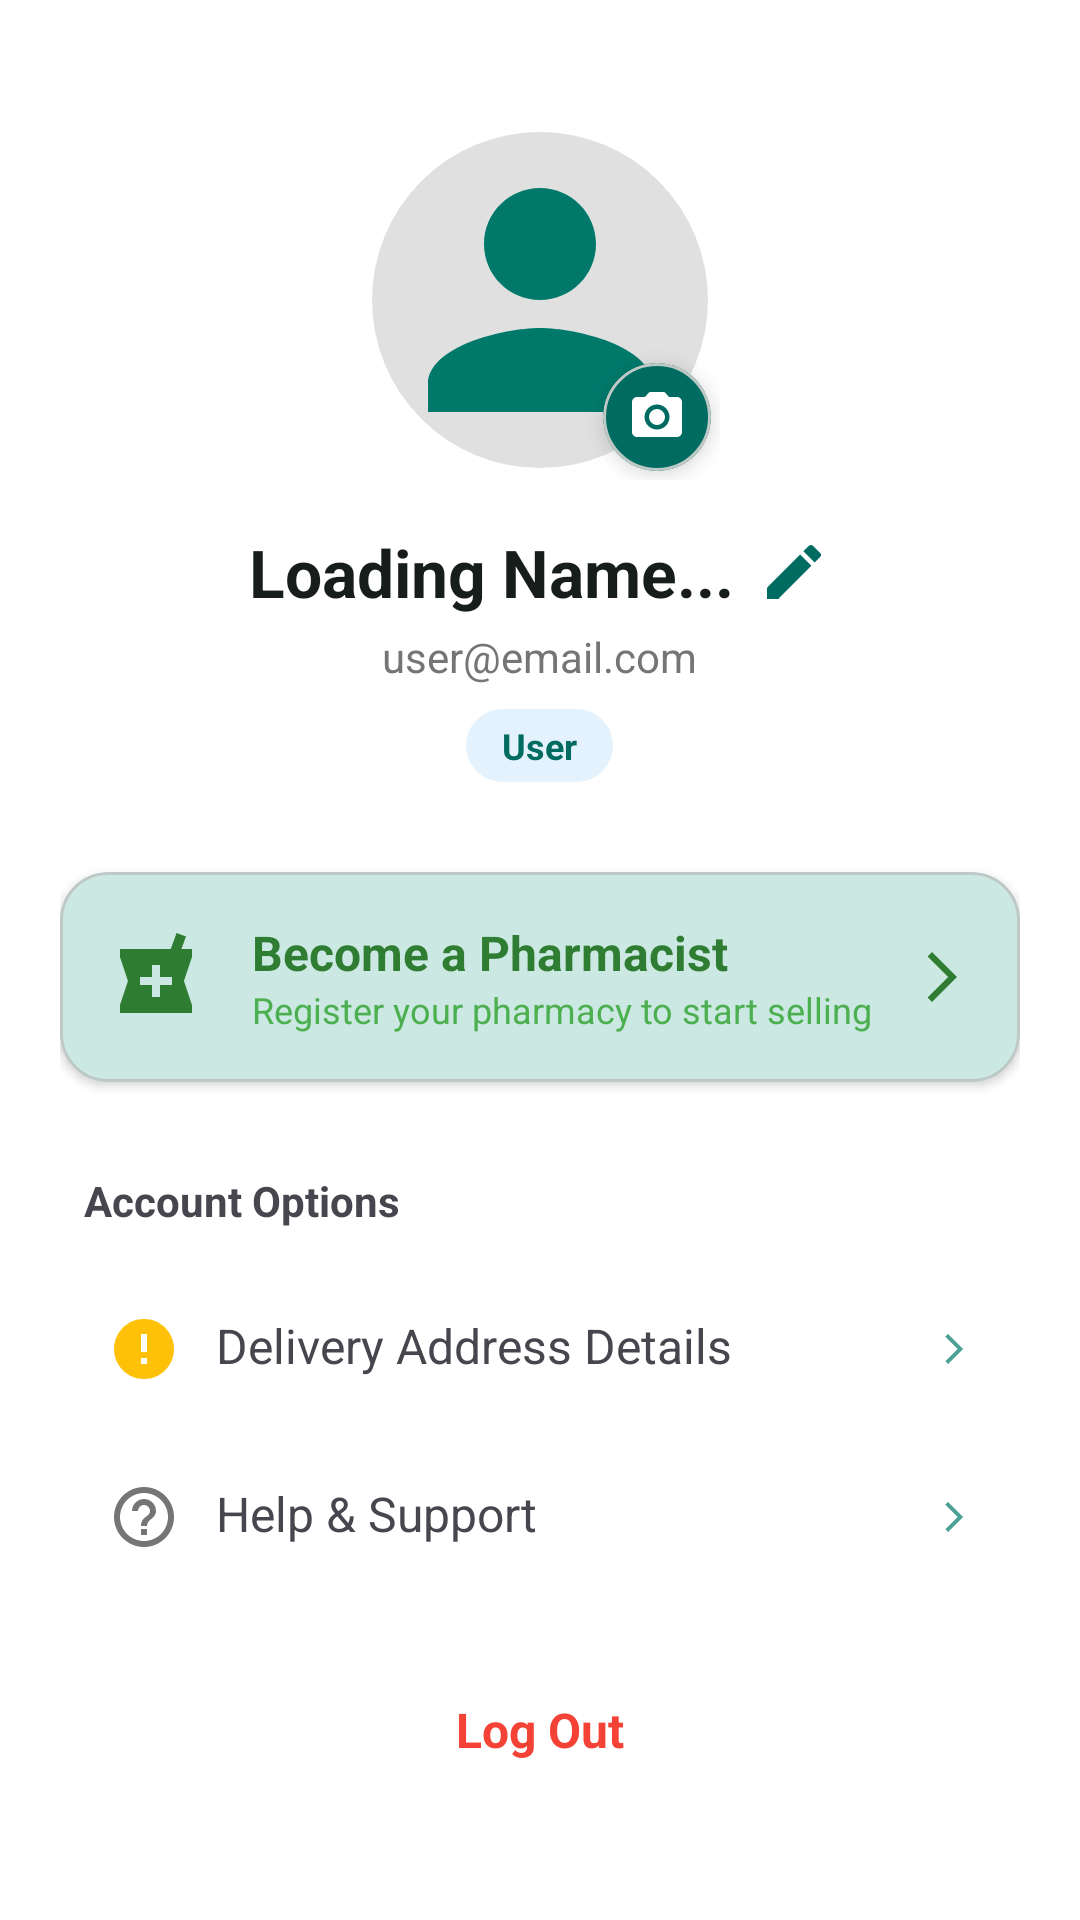

Named icons in this screenshot (1080 × 1920) and their centers, point (x, y):
arrow forward: point (942, 977)
edit: point (794, 572)
local pharmacy: point (156, 973)
